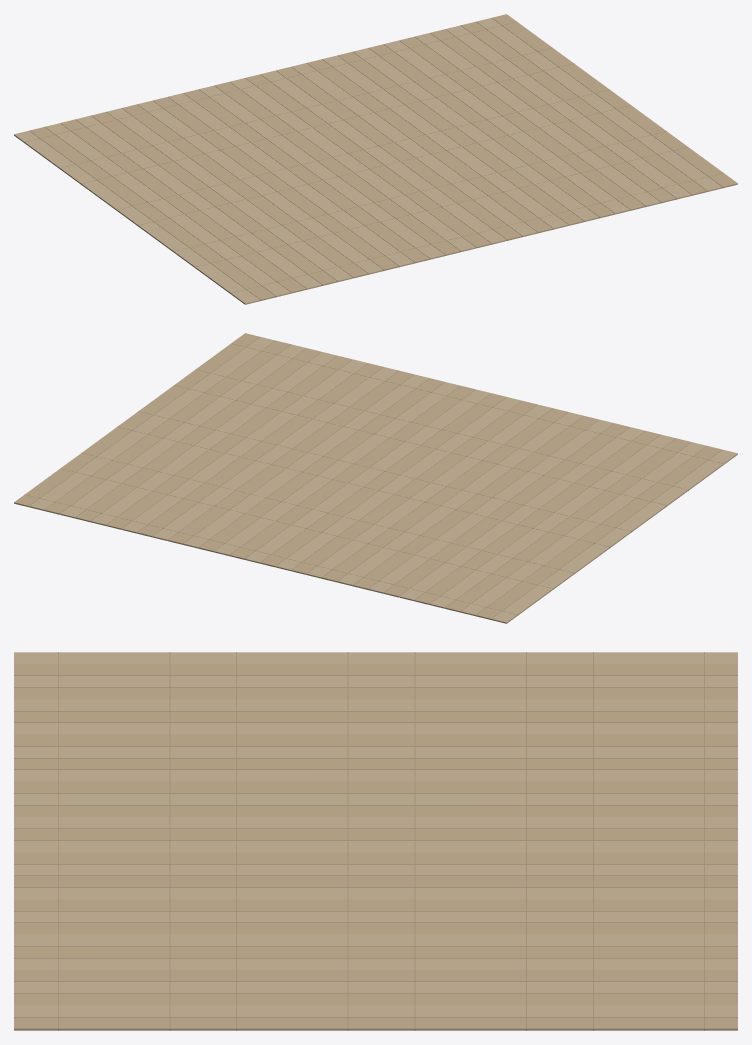
Rendered from home_floor_boards_s3__oak.glb.
3 renders of one model, top to bottom at view 1: azimuth 30°, elevation 25°; view 2: azimuth 150°, elevation 25°; view 3: azimuth 270°, elevation 25°, orthographic. The views are drawn at different scales.
Bounding box in the file's own units: 16 × 0.042 × 13.
